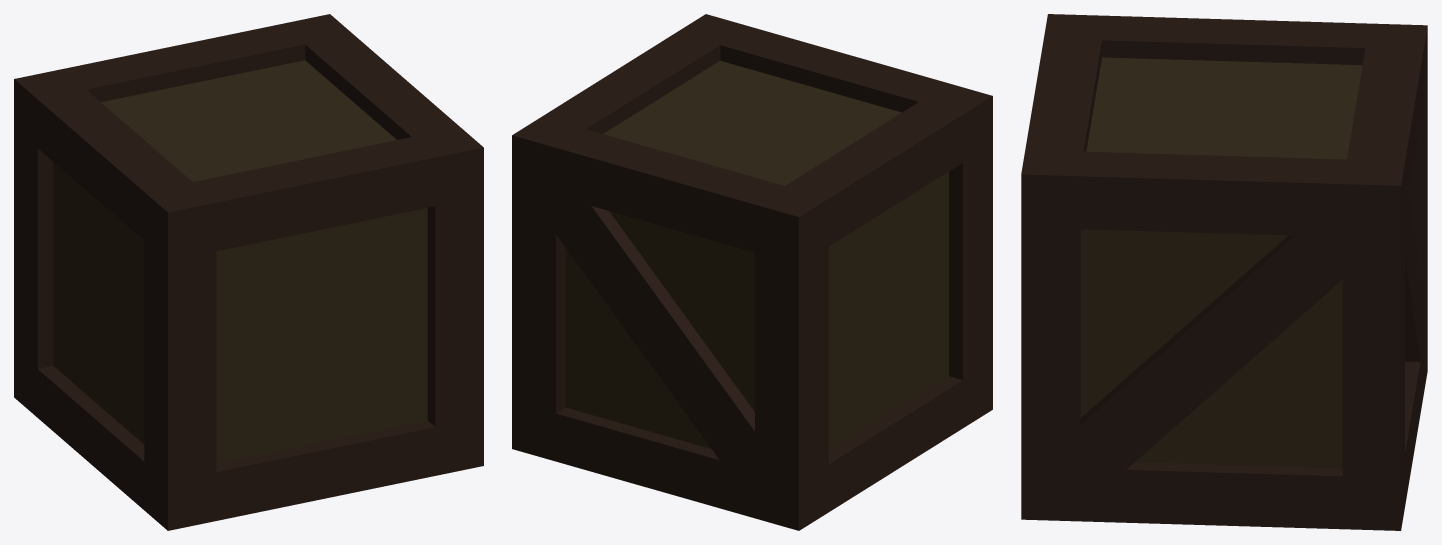
The picture shows the model from 3 angles, left to right: view 1: azimuth 30°, elevation 25°; view 2: azimuth 150°, elevation 25°; view 3: azimuth 270°, elevation 25°; orthographic projection. The views are drawn at different scales.
Parts seen in each view (by area): view 1: Box186; view 2: Box186; view 3: Box186.
Part boxes in pixels (x1,y1,x2,y2): Box186: (14, 14, 483, 530); Box186: (512, 14, 992, 530); Box186: (1021, 14, 1427, 530).
Bounding box in the file's own units: 0.8558 × 0.8014 × 0.8558.
